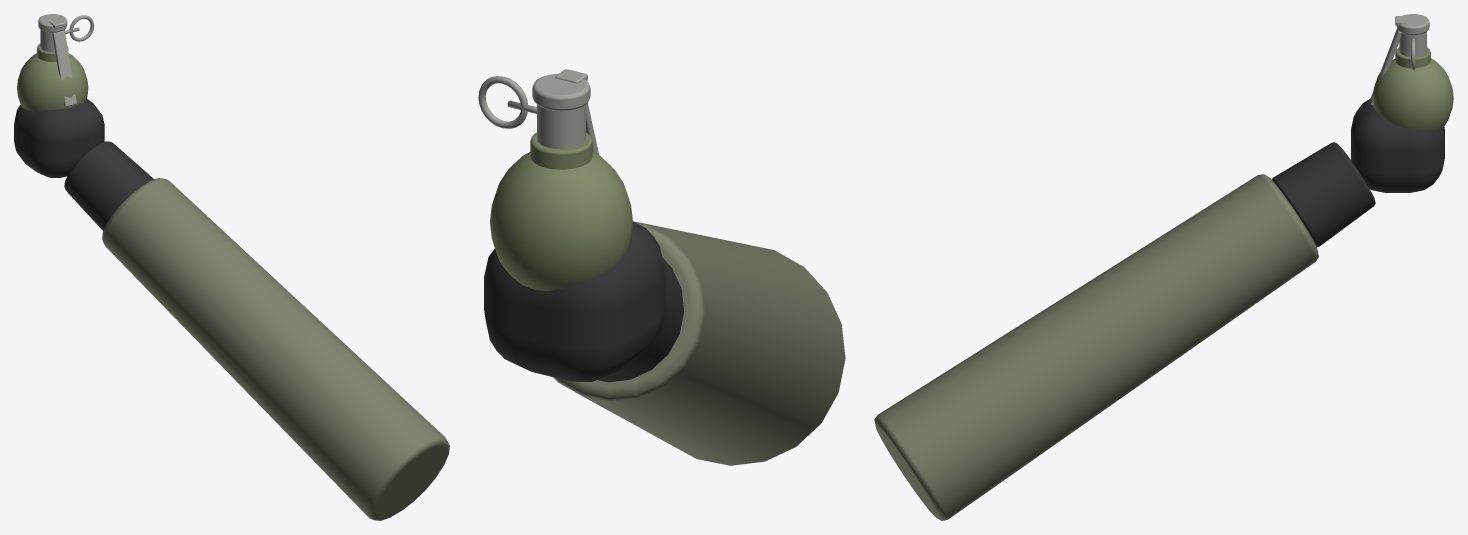
The picture shows the model from 3 angles, left to right: view 1: azimuth 30°, elevation 25°; view 2: azimuth 150°, elevation 25°; view 3: azimuth 270°, elevation 25°; orthographic projection. The views are drawn at different scales.
Visible parts, largest first — view 1: SleeveR, HandR, WristR, Body, Spoon; view 2: SleeveR, HandR, Body, WristR, Fuze, FuzeCap, Neck, PinRing; view 3: SleeveR, HandR, WristR, Body.
Boxes of the visible parts, box(x1,y1,x2,y2) form: SleeveR: box(102, 178, 449, 520); HandR: box(14, 99, 104, 177); WristR: box(64, 141, 154, 230); Body: box(17, 53, 88, 111); Spoon: box(52, 30, 76, 106); SleeveR: box(553, 221, 845, 465); HandR: box(484, 221, 665, 381); Body: box(490, 152, 632, 291); WristR: box(597, 257, 684, 382); Fuze: box(537, 105, 585, 149); FuzeCap: box(532, 73, 590, 110); Neck: box(530, 132, 592, 169); PinRing: box(478, 76, 527, 128); SleeveR: box(874, 174, 1318, 520); HandR: box(1351, 98, 1444, 192); WristR: box(1272, 142, 1375, 246); Body: box(1373, 58, 1453, 129).
Size of the model in its own units: 0.2224 by 0.3707 by 0.4573.
